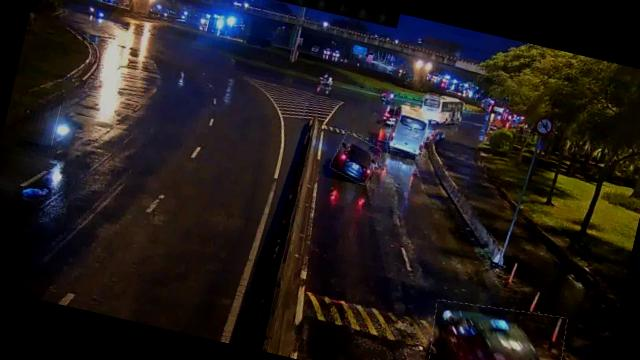Bike: (51, 106, 83, 152)
Bus: (386, 105, 433, 157), (420, 94, 466, 127)
Car: (419, 291, 573, 360), (330, 132, 382, 185)
